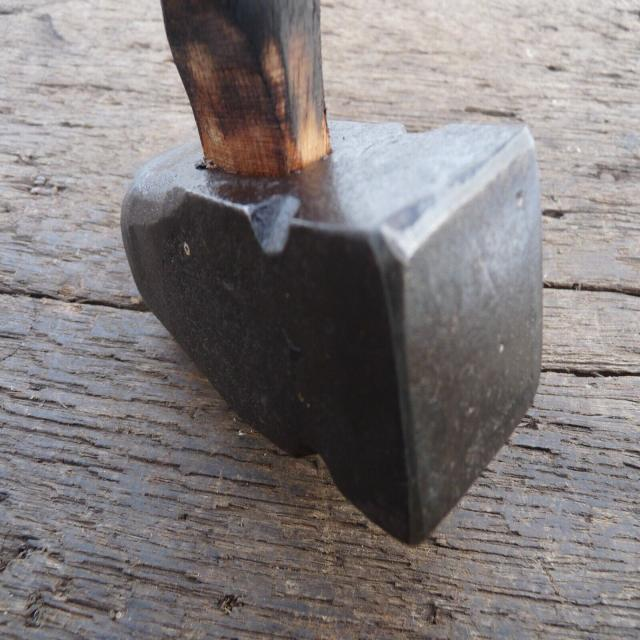hammer: (106, 0, 550, 551)
